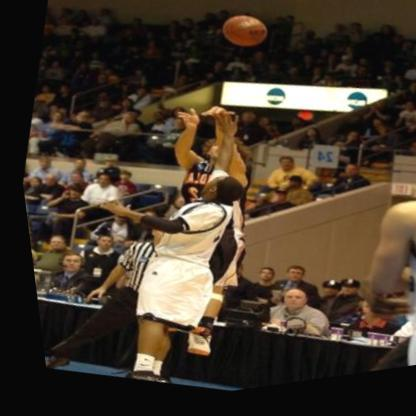basketball: (213, 14, 272, 62)
